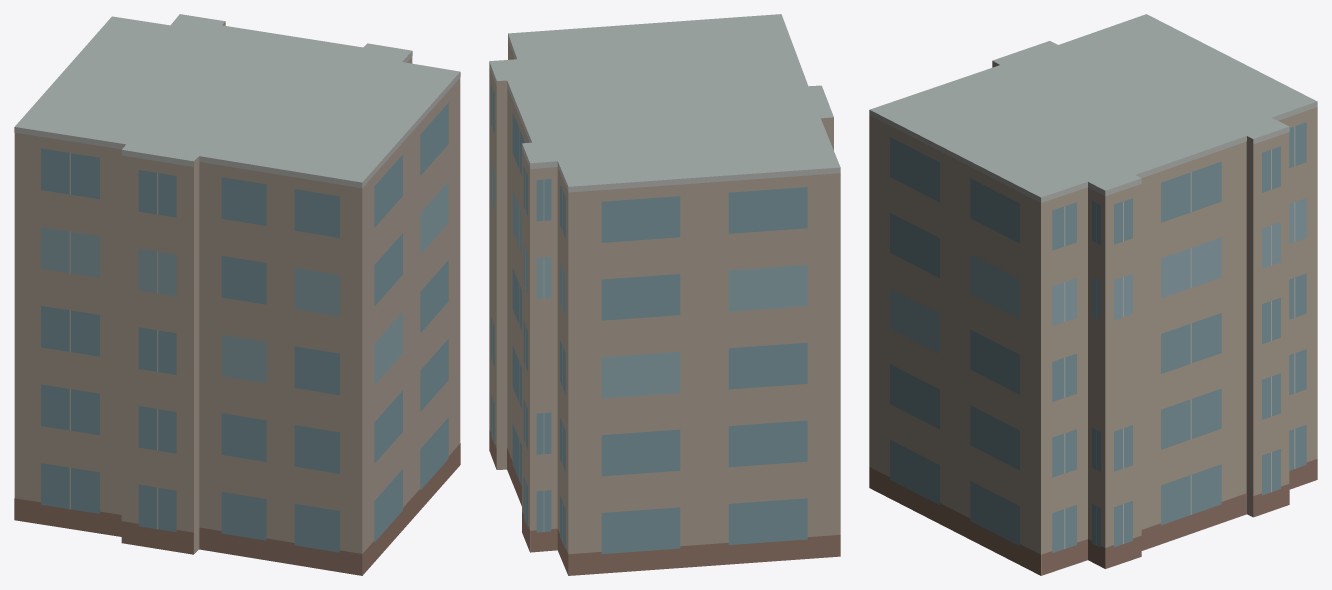
File: survey-upis-32957447.glb
3 renders of one model, left to right at view 1: azimuth 30°, elevation 25°; view 2: azimuth 150°, elevation 25°; view 3: azimuth 270°, elevation 25°, orthographic. The views are drawn at different scales.
Parts seen in each view (by area): view 1: survey-upis-32957447.tmp; view 2: survey-upis-32957447.tmp; view 3: survey-upis-32957447.tmp.
Boxes of the visible parts, <box> form: survey-upis-32957447.tmp: <box>14,14,460,575</box>; survey-upis-32957447.tmp: <box>489,14,840,575</box>; survey-upis-32957447.tmp: <box>869,14,1317,575</box>.
Size of the model in its own units: 17.49 by 16.8 by 18.04.
